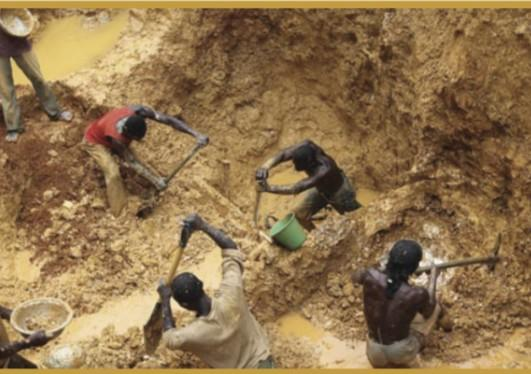MiningTool: (142, 216, 199, 354), (138, 134, 211, 214), (400, 230, 506, 278), (9, 297, 78, 342), (268, 210, 308, 252), (1, 8, 36, 38), (248, 169, 262, 230)
Person: (157, 212, 275, 369), (77, 101, 209, 221), (350, 238, 452, 368), (251, 138, 362, 230), (1, 8, 75, 143), (1, 301, 49, 369)
